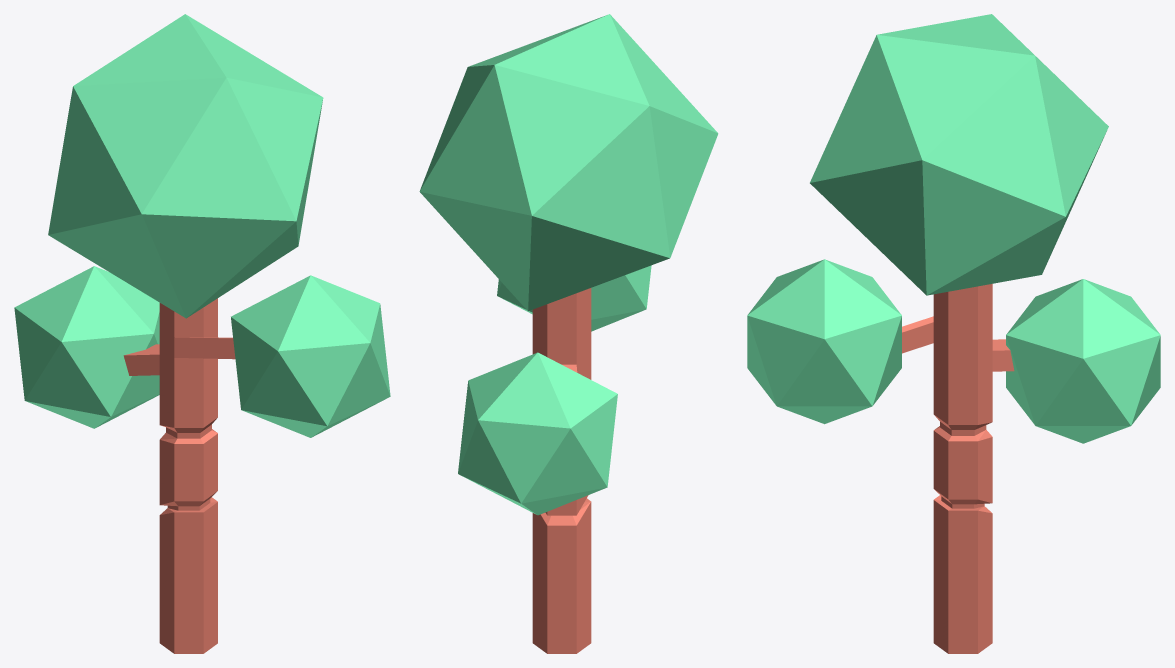
Rendered from Tree 2.fbx.
3 views of the same model, side by side, from view 1: azimuth 30°, elevation 25°; view 2: azimuth 150°, elevation 25°; view 3: azimuth 270°, elevation 25° (orthographic).
Visible parts, largest first — view 1: Tree 2; view 2: Tree 2; view 3: Tree 2.
Part boxes in pixels (x1=…): Tree 2: x1=14, y1=14, x2=390, y2=653; Tree 2: x1=419, y1=14, x2=718, y2=653; Tree 2: x1=747, y1=14, x2=1160, y2=653.
Size of the model in its own units: 307 by 709 by 438.
